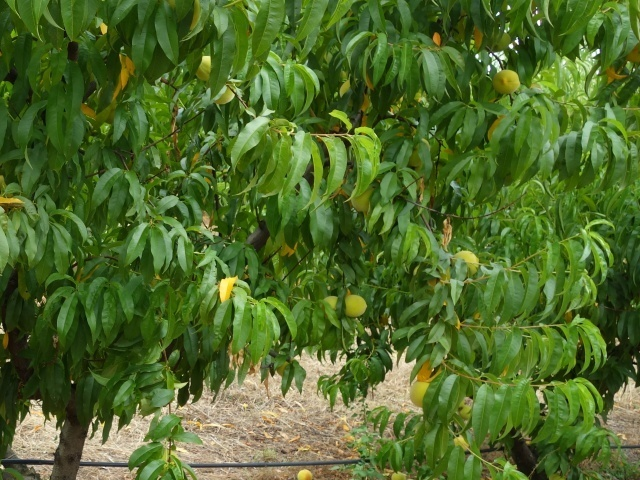peach: (492, 67, 522, 98), (450, 247, 481, 277), (211, 78, 239, 111), (407, 376, 432, 411), (340, 292, 369, 322), (348, 184, 372, 215), (195, 53, 215, 84)
